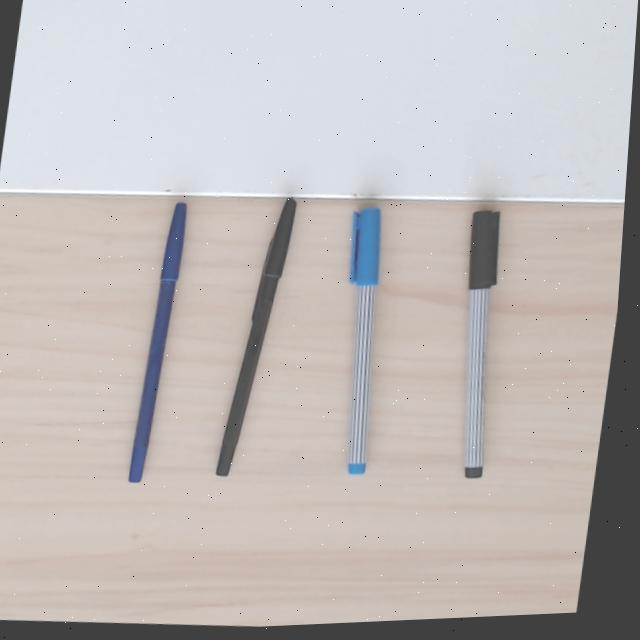Pulpen-Biru: (125, 199, 189, 483)
Pulpen-Garis-Biru: (339, 205, 381, 474)
Pulpen-Garis-Hitam: (453, 207, 502, 481)
Pulpen-Hitam: (208, 194, 300, 475)
